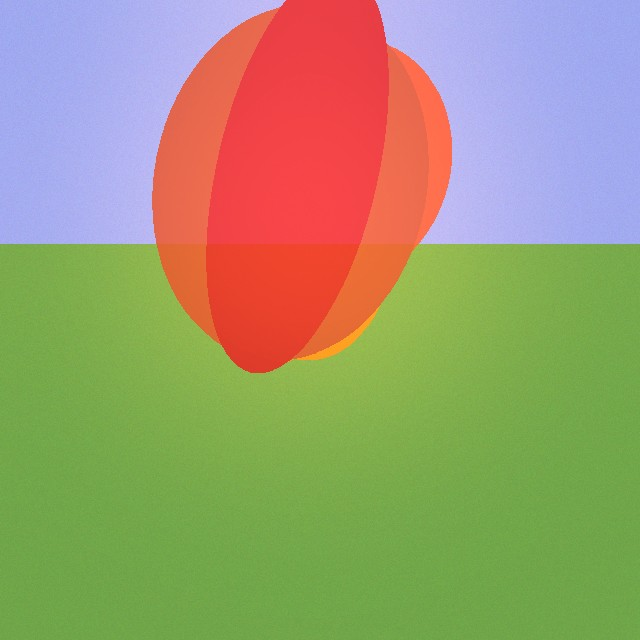fire: (178, 94, 442, 342)
